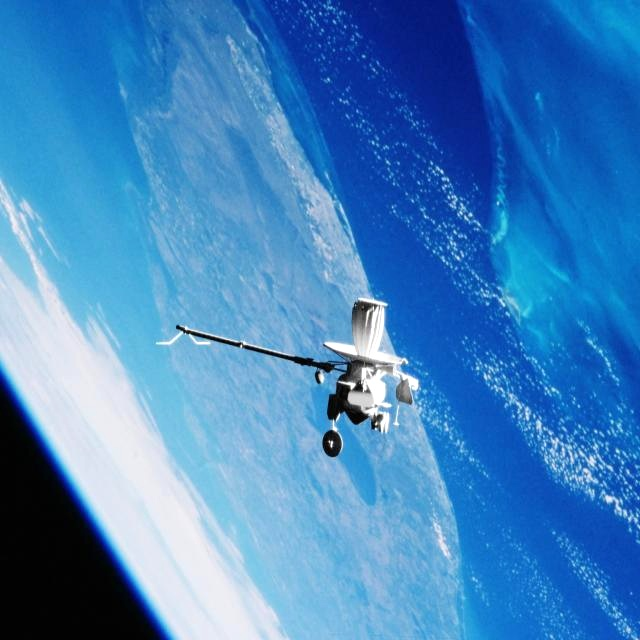satellite: (156, 266, 440, 464)
